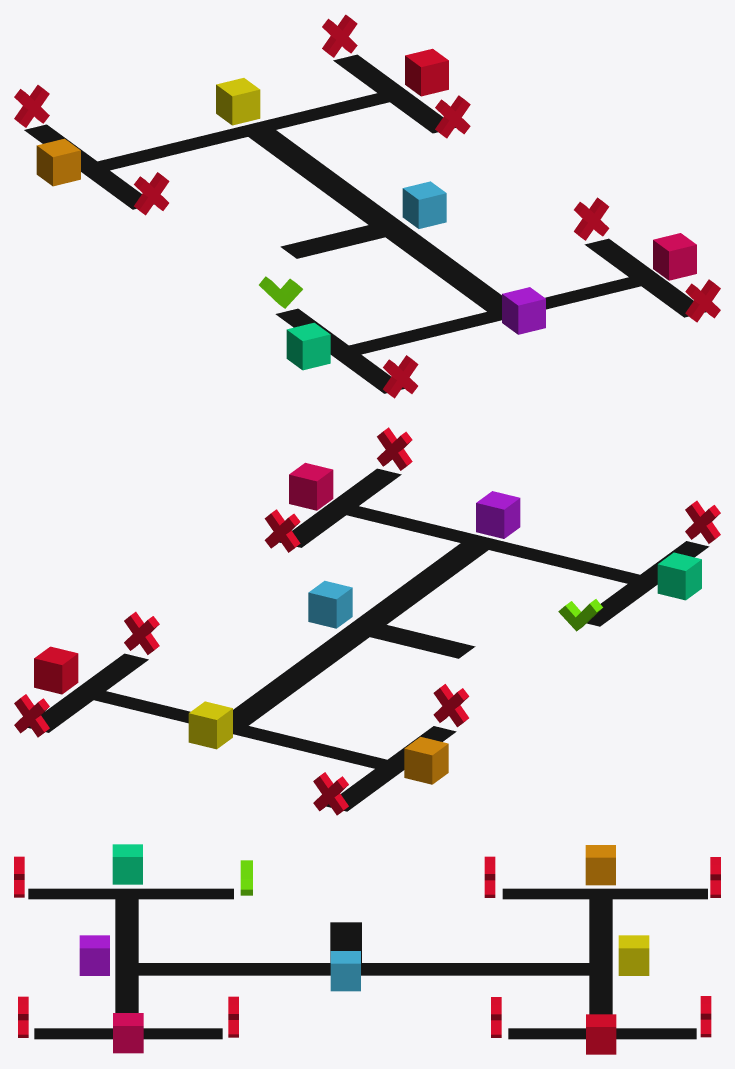
3 renders of one model, top to bottom at view 1: azimuth 30°, elevation 25°; view 2: azimuth 150°, elevation 25°; view 3: azimuth 270°, elevation 25°, orthographic. The views are drawn at different scales.
Visible parts, largest first — view 1: Plane, Cube_009, Cube_007, Cube_001, Cube_010, Cube_006, Cube_008, Cube_002, Cube_005, Cube_004, Cube_015, Cube_014 (+4 smaller); view 2: Plane, Cube_010, Cube_009, Cube_008, Cube_007, Cube_006, Cube_002, Cube_001, Cube_015, Cube_013, Cube_004, Cube_011 (+4 smaller); view 3: Plane, Cube_010, Cube_009, Cube_008, Cube_006, Cube_002, Cube_007, Cube_001, Cube_005, Cube_003, Cube, Cube_015 (+4 smaller).
Part boxes in pixels (x1,y1,x2,y2): Plane: (24, 54, 706, 393); Cube_009: (286, 322, 330, 370); Cube_007: (36, 138, 80, 186); Cube_001: (402, 181, 446, 228); Cube_010: (216, 78, 260, 125); Cube_006: (653, 233, 696, 280); Cube_008: (405, 48, 448, 96); Cube_002: (502, 287, 545, 334); Cube_005: (322, 14, 357, 57); Cube_004: (14, 85, 49, 127); Cube_015: (574, 197, 609, 240); Cube_014: (685, 279, 720, 322); Plane: (28, 468, 709, 811); Cube_010: (188, 701, 232, 749); Cube_009: (657, 552, 701, 600); Cube_008: (34, 646, 78, 694); Cube_007: (404, 736, 448, 784); Cube_006: (289, 462, 333, 510); Cube_002: (476, 491, 520, 538); Cube_001: (308, 580, 352, 628); Cube_015: (264, 509, 300, 552); Cube_013: (685, 500, 720, 543); Cube_004: (313, 772, 348, 815); Cube_011: (124, 611, 159, 654); Plane: (28, 888, 707, 1039); Cube_010: (618, 935, 649, 975); Cube_009: (112, 844, 142, 884); Cube_008: (586, 1014, 616, 1054); Cube_006: (113, 1013, 143, 1053); Cube_002: (79, 935, 109, 975); Cube_007: (585, 845, 615, 885); Cube_001: (330, 951, 360, 991); Cube_005: (700, 996, 711, 1037); Cube_003: (484, 856, 495, 897); Cube: (240, 860, 252, 895); Cube_015: (228, 996, 238, 1037).
Bounding box in the file's own units: 28.45 × 46.5 × 2.49.
